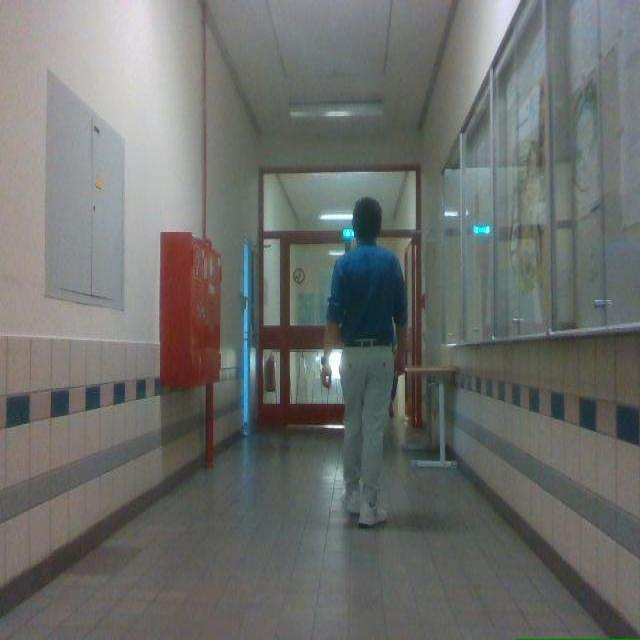humans: (321, 198, 406, 526), (393, 340, 396, 354)
